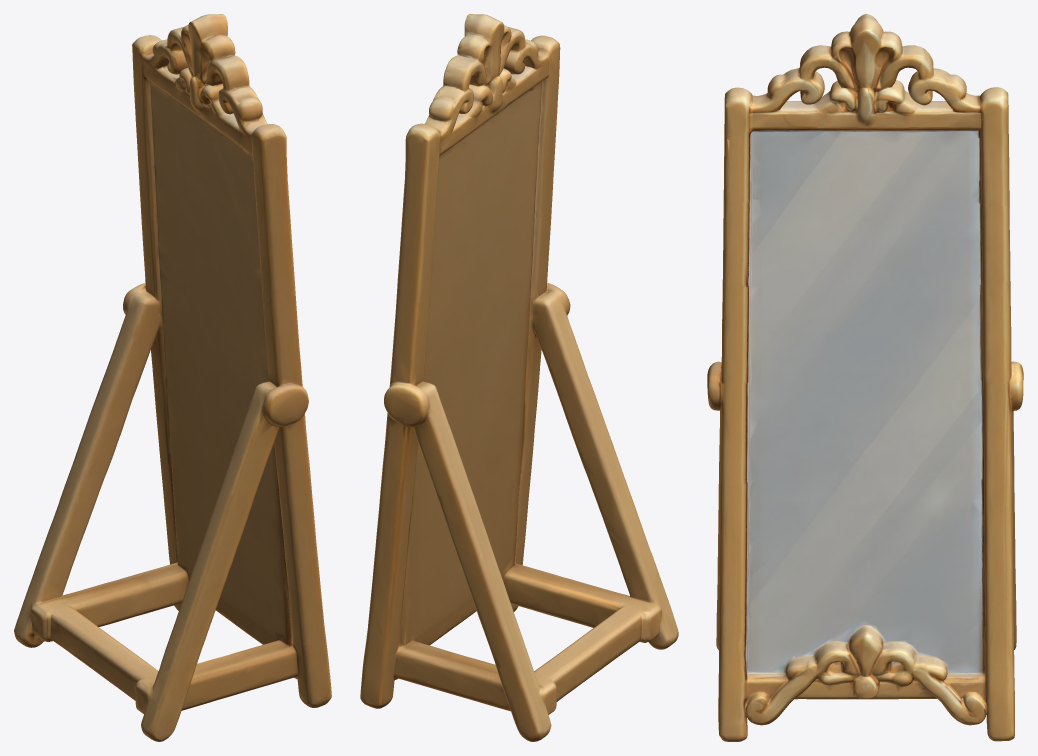
Rendered from mirror-5e4e91042b4a.glb.
3 views of the same model, side by side, from view 1: azimuth 30°, elevation 25°; view 2: azimuth 150°, elevation 25°; view 3: azimuth 270°, elevation 25° (orthographic). The views are drawn at different scales.
Visible parts, largest first — view 1: tripo_node_4772f57b-a630-4cdf-976c-9a3fb6d1f37c; view 2: tripo_node_4772f57b-a630-4cdf-976c-9a3fb6d1f37c; view 3: tripo_node_4772f57b-a630-4cdf-976c-9a3fb6d1f37c.
Boxes of the visible parts, bbox=[...] form: tripo_node_4772f57b-a630-4cdf-976c-9a3fb6d1f37c: bbox=[14, 14, 331, 741]; tripo_node_4772f57b-a630-4cdf-976c-9a3fb6d1f37c: bbox=[360, 14, 678, 741]; tripo_node_4772f57b-a630-4cdf-976c-9a3fb6d1f37c: bbox=[707, 14, 1023, 741].
Size of the model in its own units: 0.2977 by 0.9998 by 0.4107.
Materials: 1 (1 with a texture image).
